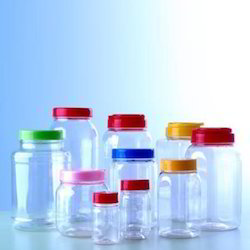Rec_Plastic: (9, 121, 72, 238), (184, 124, 243, 233), (51, 159, 120, 245), (47, 99, 107, 182), (105, 107, 162, 186), (154, 155, 203, 239), (119, 178, 152, 238)
